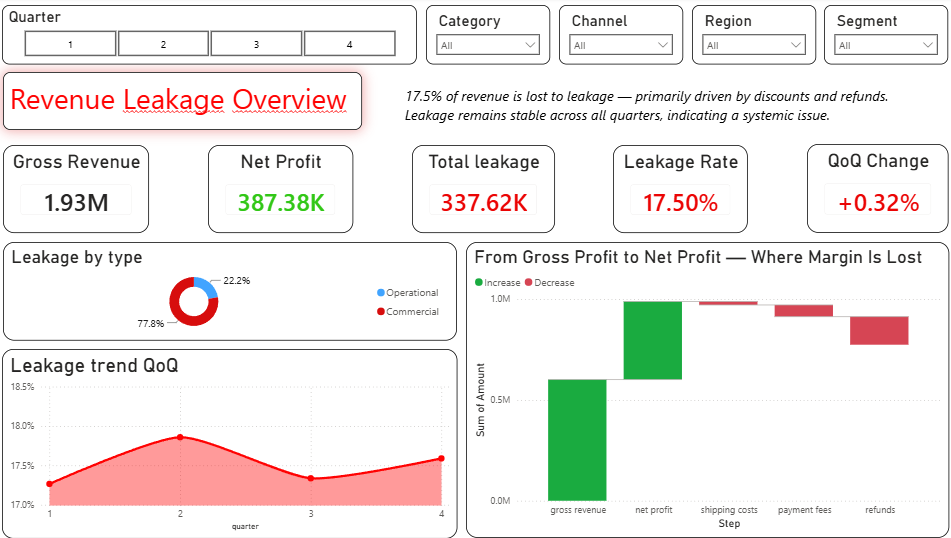

The dashboard page shown, as its layout file describes it:
{"tool":"powerbi","page":{"name":"Executive Summary","canvas":[1280,720],"ordinal":0},"visuals":[{"type":"cardVisual","title":"Total leakage","fields":{"Data":["fact_order_items.Total Leakage"]},"box":[555,197.2,189.7,116.5],"z":0},{"type":"cardVisual","title":"Gross Revenue","fields":{"Data":["fact_order_items.Total Gross Revenue"]},"box":[12,197.2,194.2,116.5],"z":1000},{"type":"cardVisual","title":"Net Profit","fields":{"Data":["fact_order_items.Net Profit"]},"box":[284.2,197.2,192.7,116.5],"z":2000},{"type":"lineChart","title":"Leakage trend QoQ","fields":{"Category":["dim_dates.quarter"],"Y":["fact_order_items.Leakage Rate"]},"box":[10.1,467,604.7,252],"z":3000},{"type":"cardVisual","title":"Leakage Rate","fields":{"Data":["fact_order_items.Leakage Rate %"]},"box":[822.8,197.2,179.3,116.5],"z":4000},{"type":"donutChart","title":"Leakage by type","fields":{"Y":["fact_order_items.Operational leakage","fact_order_items.Commercial leakage"]},"box":[11.8,325.9,603,131],"z":5000},{"type":"textbox","box":[12,100.1,513.9,76.2],"z":6000},{"type":"slicer","fields":{"Values":["fact_order_items.channel"]},"box":[750.1,11.1,165,79.4],"z":7000},{"type":"slicer","fields":{"Values":["fact_order_items.region"]},"box":[926.6,11.1,165,79.4],"z":8000},{"type":"slicer","fields":{"Values":["fact_order_items.segment"]},"box":[1103.2,11.1,165,79.4],"z":9000},{"type":"slicer","title":"Quarter","fields":{"Values":["dim_dates.quarter"]},"box":[11.1,11.1,550.8,79.4],"z":10000},{"type":"cardVisual","title":"QoQ Change","fields":{"Data":["fact_order_items.QoQ change %"]},"box":[1080.1,194.9,188.1,117.6],"z":11000},{"type":"slicer","fields":{"Values":["fact_order_items.category"]},"box":[573.5,11.1,165.1,79.4],"z":12000},{"type":"textbox","box":[540.9,112.5,727.3,77],"z":13000},{"type":"waterfallChart","title":"From Gross Profit to Net Profit — Where Margin Is Lost","fields":{"Category":["waterfall.Step"],"Y":["Sum(waterfall.Amount)"]},"box":[626.6,325.9,641.7,393.1],"z":14000}]}

Visuals, with their boxes in screenshot pixels (x1, y1, x2, y2), scaled from the page's 1280x720 canvas onto the 951x538 screenshot:
"Total leakage" cardVisual: x1=412, y1=147, x2=553, y2=234
"Gross Revenue" cardVisual: x1=9, y1=147, x2=153, y2=234
"Net Profit" cardVisual: x1=211, y1=147, x2=354, y2=234
"Leakage trend QoQ" lineChart: x1=8, y1=349, x2=457, y2=537
"Leakage Rate" cardVisual: x1=611, y1=147, x2=745, y2=234
"Leakage by type" donutChart: x1=9, y1=244, x2=457, y2=341
textbox: x1=9, y1=75, x2=391, y2=132
slicer - fact_order_items.channel: x1=557, y1=8, x2=680, y2=68
slicer - fact_order_items.region: x1=688, y1=8, x2=811, y2=68
slicer - fact_order_items.segment: x1=820, y1=8, x2=942, y2=68
"Quarter" slicer: x1=8, y1=8, x2=417, y2=68
"QoQ Change" cardVisual: x1=802, y1=146, x2=942, y2=234
slicer - fact_order_items.category: x1=426, y1=8, x2=549, y2=68
textbox: x1=402, y1=84, x2=942, y2=142
"From Gross Profit to Net Profit — Where Margin Is Lost" waterfallChart: x1=466, y1=244, x2=942, y2=537
